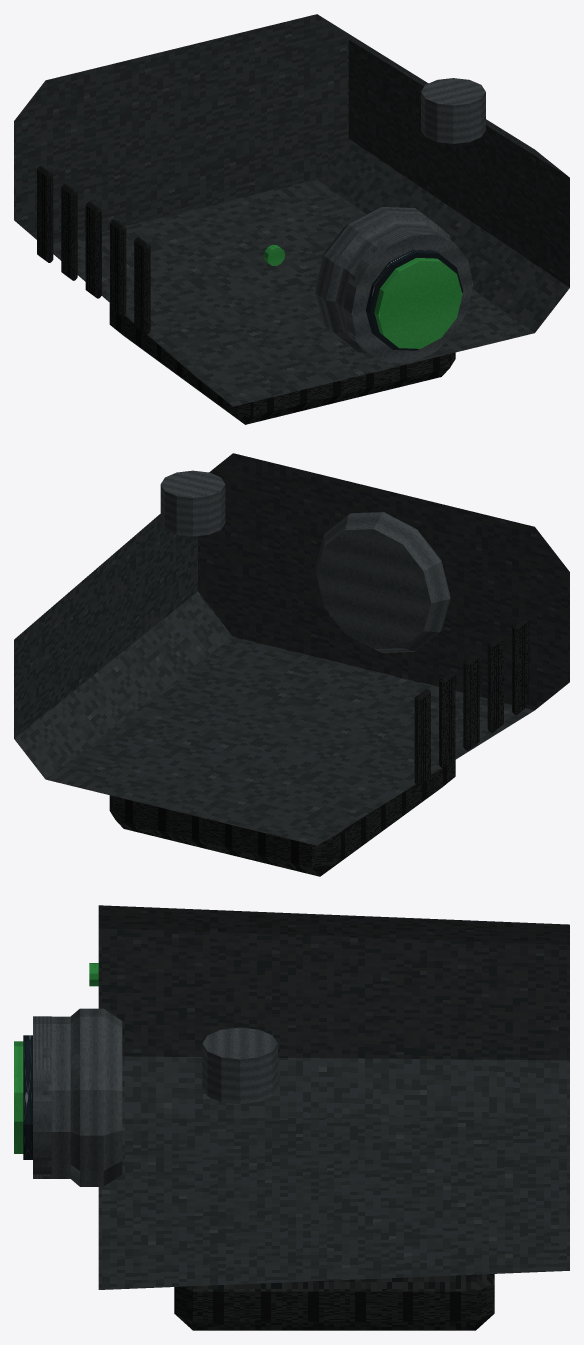
Rendered from blender_dots_projector_2.glb.
The picture shows the model from 3 angles, top to bottom: view 1: azimuth 30°, elevation 25°; view 2: azimuth 150°, elevation 25°; view 3: azimuth 270°, elevation 25°; orthographic projection. The views are drawn at different scales.
Visible parts, largest first — view 1: blender_dots_projector_2; view 2: blender_dots_projector_2; view 3: blender_dots_projector_2.
Boxes of the visible parts, x1,y1,x2,y2 form: blender_dots_projector_2: [14, 14, 569, 424]; blender_dots_projector_2: [14, 453, 569, 876]; blender_dots_projector_2: [14, 905, 569, 1330].
Size of the model in its own units: 0.1078 by 0.0715 by 0.118.
Materials: 5 (5 with a texture image).
